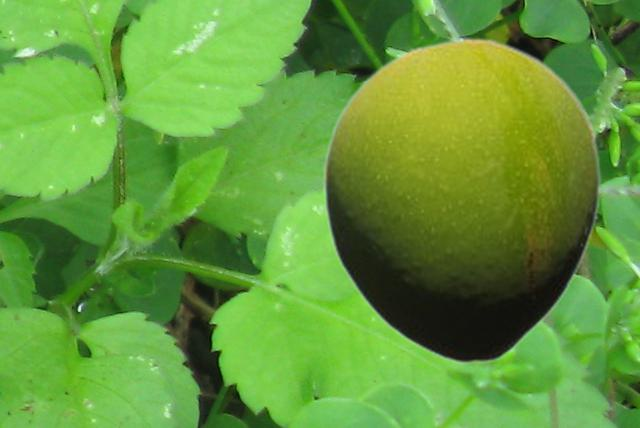green_mango: (322, 37, 601, 364)
